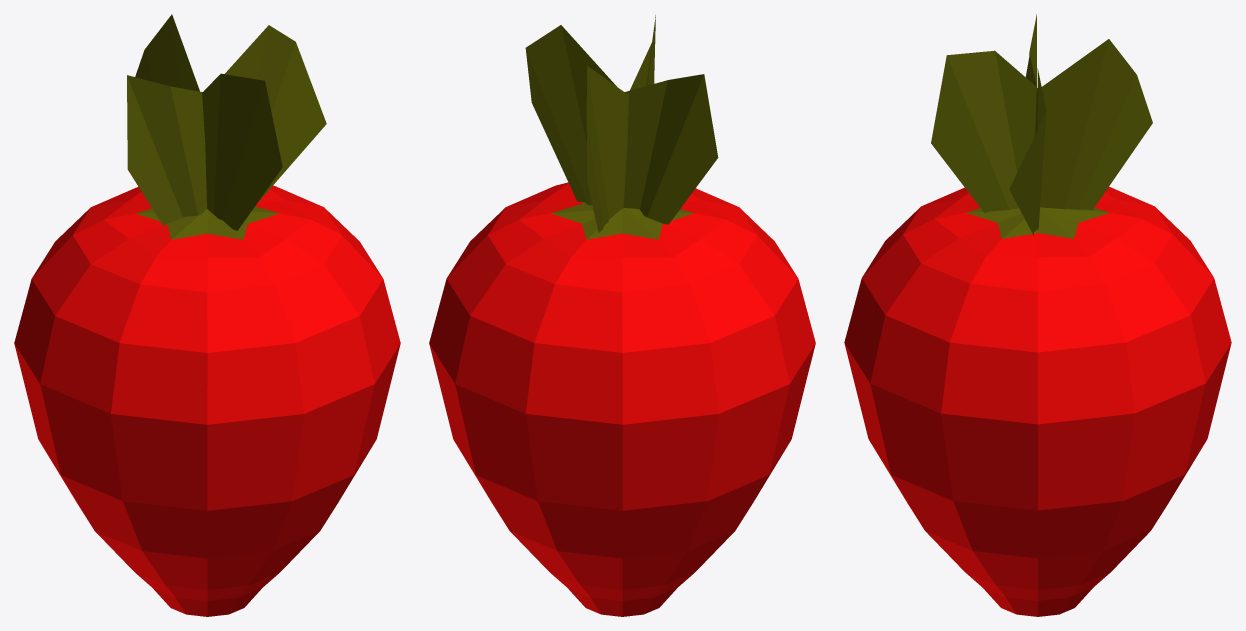
The model's file is strawberry.glb.
The picture shows the model from 3 angles, left to right: view 1: azimuth 30°, elevation 25°; view 2: azimuth 150°, elevation 25°; view 3: azimuth 270°, elevation 25°; orthographic projection.
Parts seen in each view (by area): view 1: strawberry; view 2: strawberry; view 3: strawberry.
Part boxes in pixels (bbox=[...]): strawberry: bbox=[14, 14, 400, 616]; strawberry: bbox=[429, 15, 815, 616]; strawberry: bbox=[844, 14, 1231, 616].
Bounding box in the file's own units: 0.5808 × 0.9529 × 0.5808.
1 material, 1 textured.
